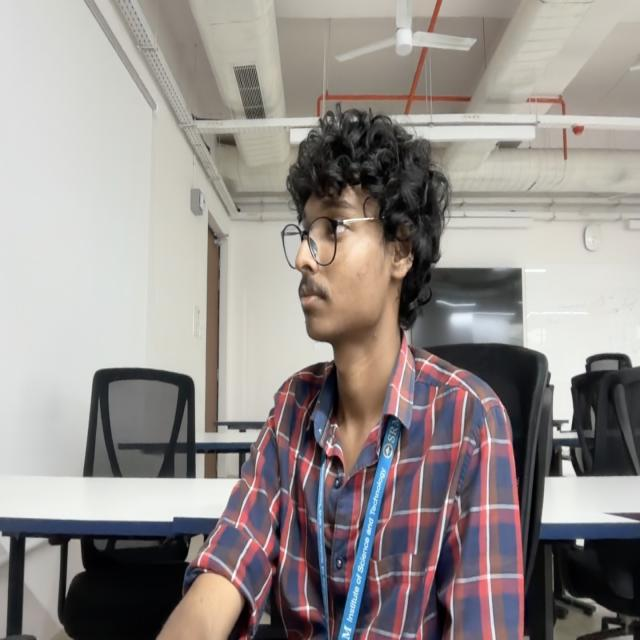darshan: (284, 106, 444, 342)
